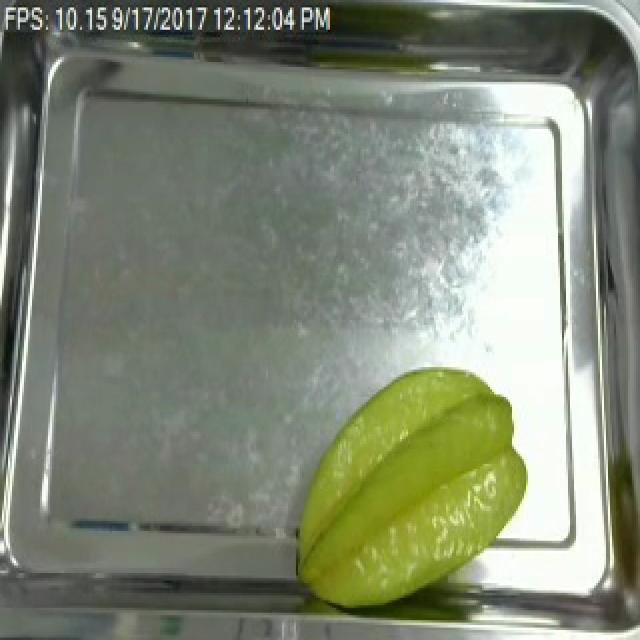fruit: (282, 362, 538, 620)
